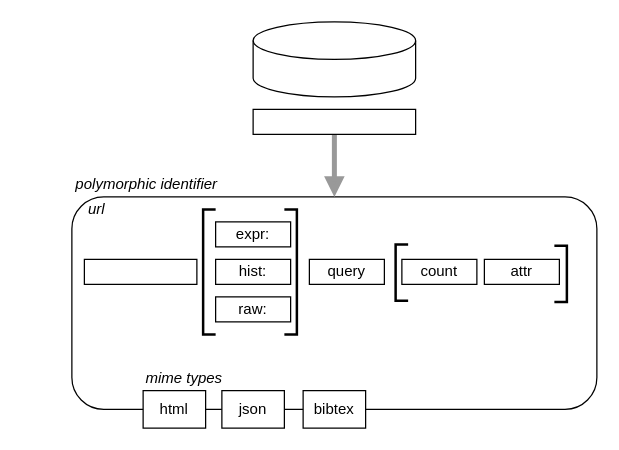
Some shapes in this 619 by 450 pixel diagram are drawn without their labels. Each missing label, with the centre of its shape:
"academic://" goes at pixel 140 271.
"Microsoft Academic" goes at pixel 334 59.
"REST services" goes at pixel 334 121.
